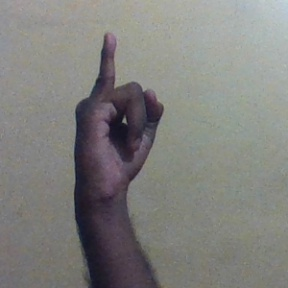I: (70, 30, 167, 193)
